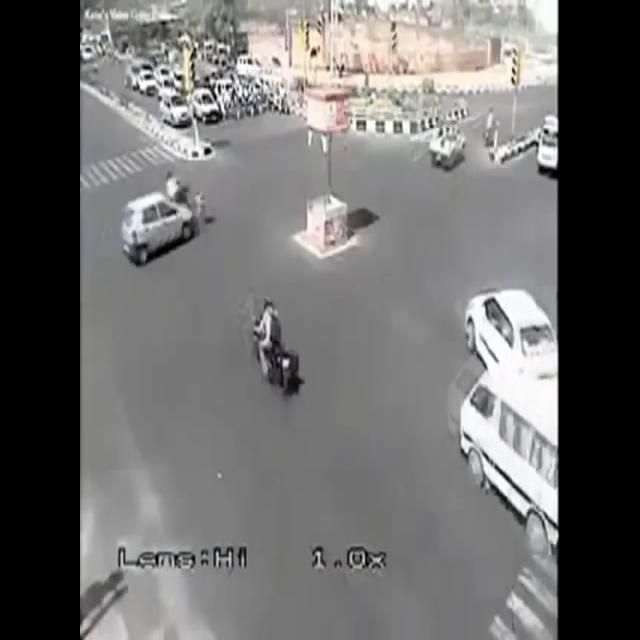accident: (118, 172, 210, 268)
non-accident: (460, 284, 558, 562), (123, 44, 293, 128), (159, 90, 221, 126), (128, 58, 174, 98)
